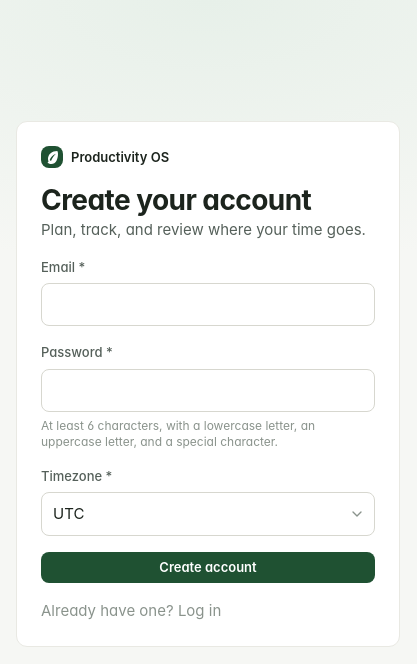
Test case: Register › maps server field errors onto the fields
Type "sam@example.com" into the field named "Email *(required)" at (208, 305), box [41,283,375,326]
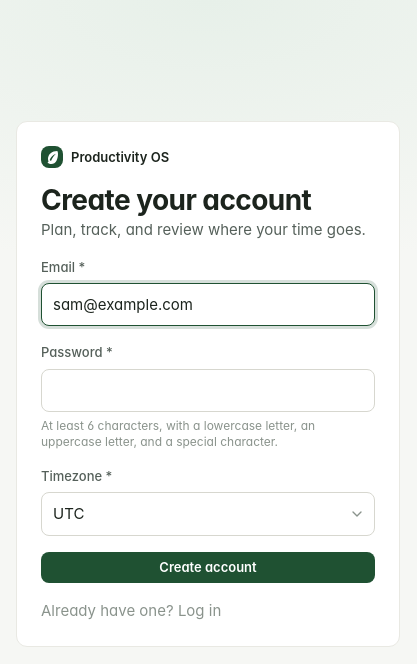
Type "weak" into the password field named "Password *(required)" at (208, 390), box [41,368,375,412]
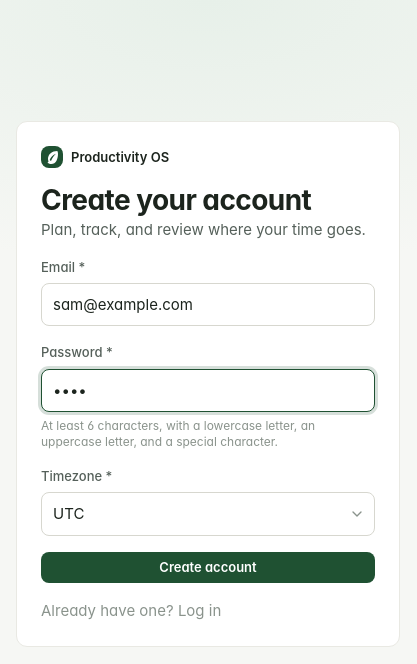
Click the button "Create account" at (208, 567), box [41,552,375,583]
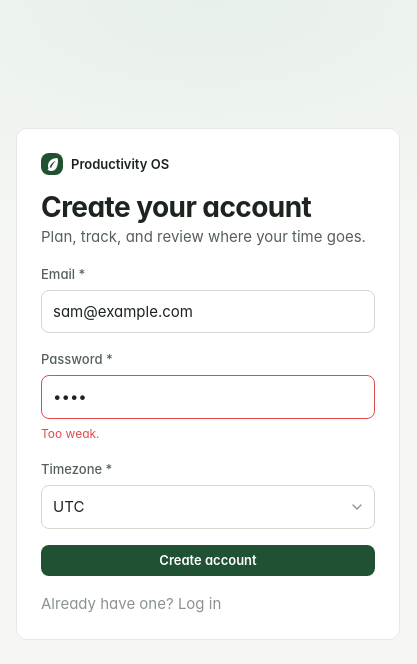
Check: the text "Too weak." is shown, box [41,426,100,441]
